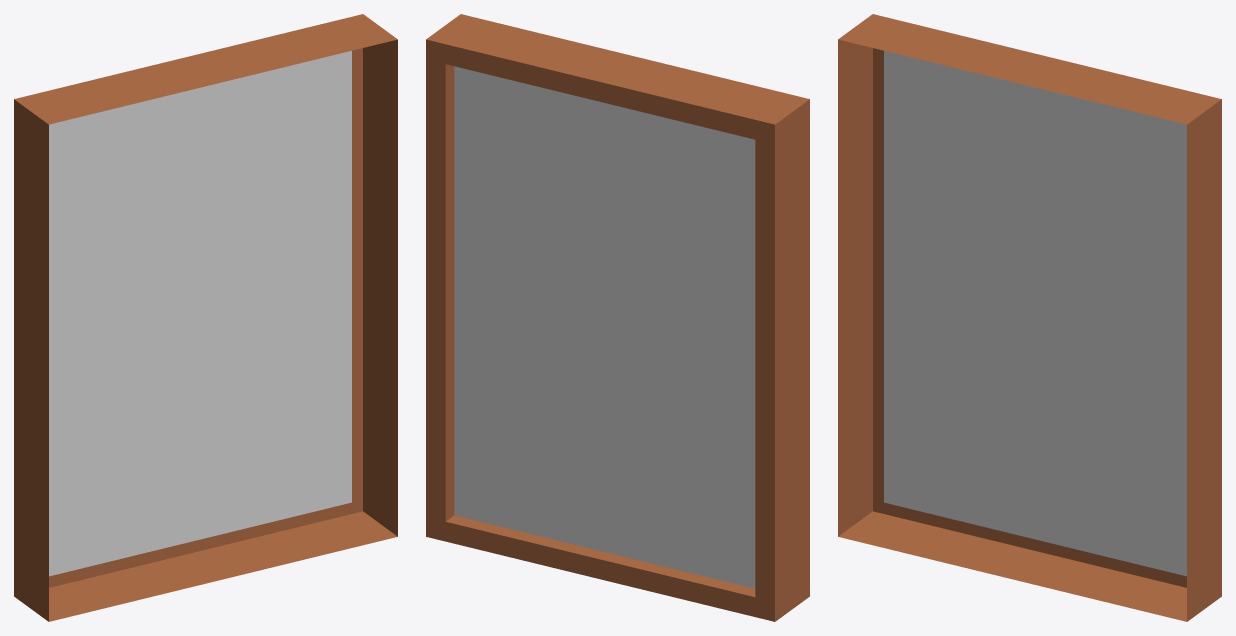
File: SM_Painting_TeamOane_001.fbx
3 views of the same model, side by side, from view 1: azimuth 30°, elevation 25°; view 2: azimuth 150°, elevation 25°; view 3: azimuth 330°, elevation 25° (orthographic).
Parts seen in each view (by area): view 1: Painting.003; view 2: Painting.003; view 3: Painting.003.
Part boxes in pixels (left/top/right/bottom): Painting.003: left=14, top=14, right=397, bottom=621; Painting.003: left=426, top=14, right=809, bottom=621; Painting.003: left=838, top=14, right=1221, bottom=621.
Bounding box in the file's own units: 0.5369 × 0.7308 × 0.0928.
